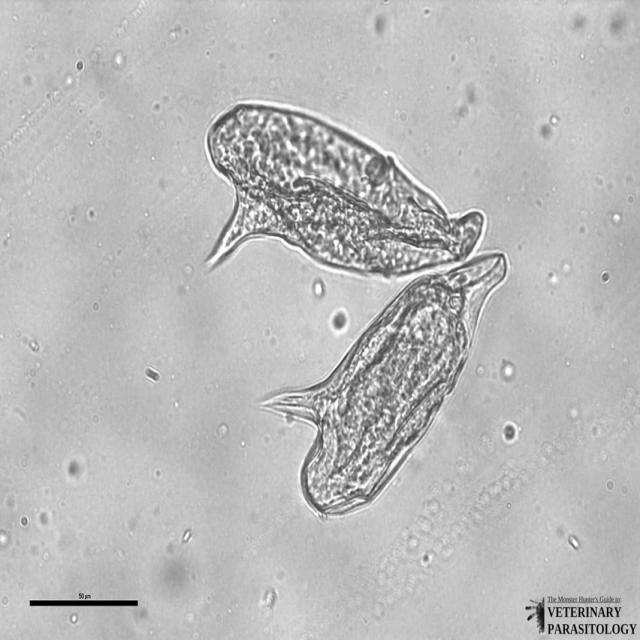Schistosoma: (255, 248, 509, 526), (190, 92, 497, 291)
